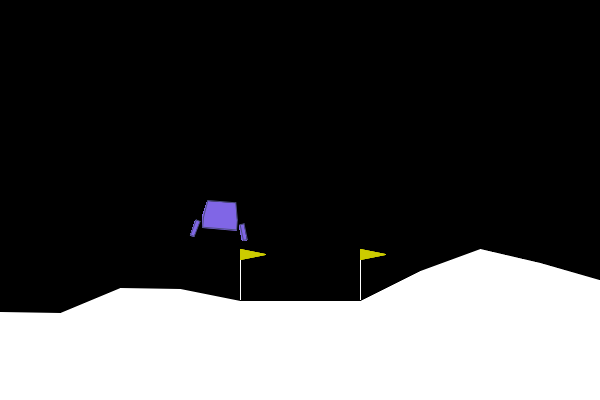lander: (188, 198, 251, 242)
